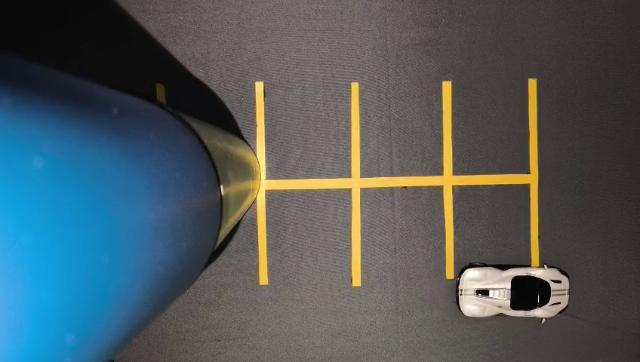toy_car: (435, 220, 583, 350)
